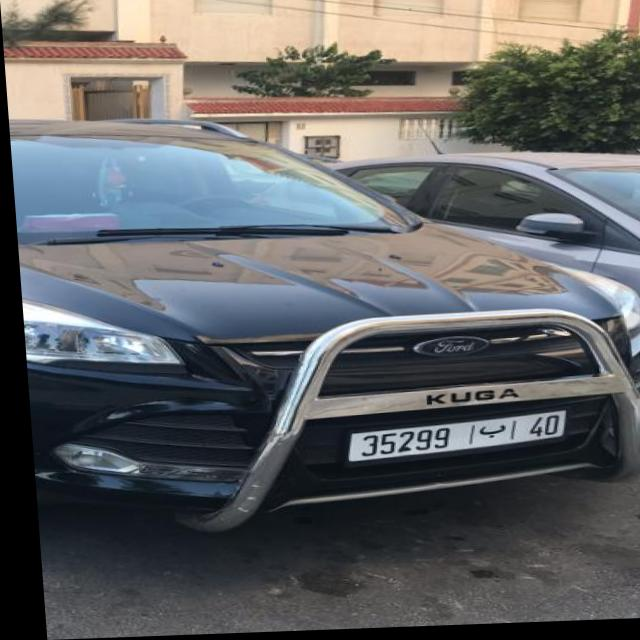License-Plate: (341, 415, 559, 464)
